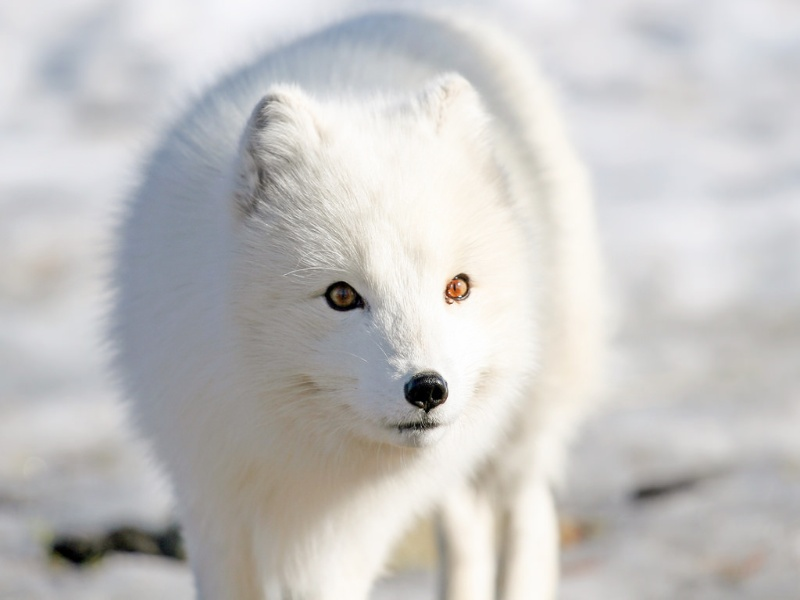fox: (102, 8, 572, 600)
